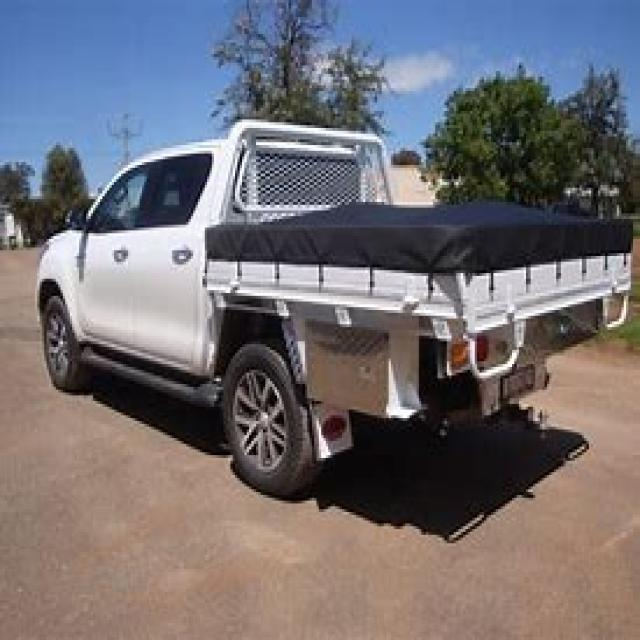light_vehicle: (30, 114, 638, 515)
